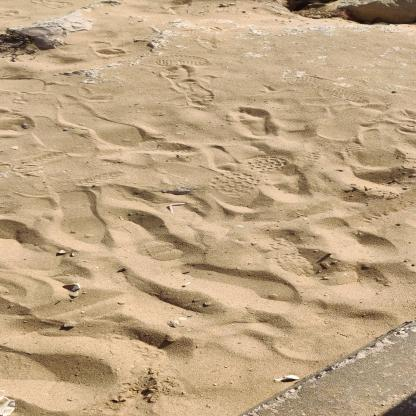plastik: (169, 203, 185, 213)
